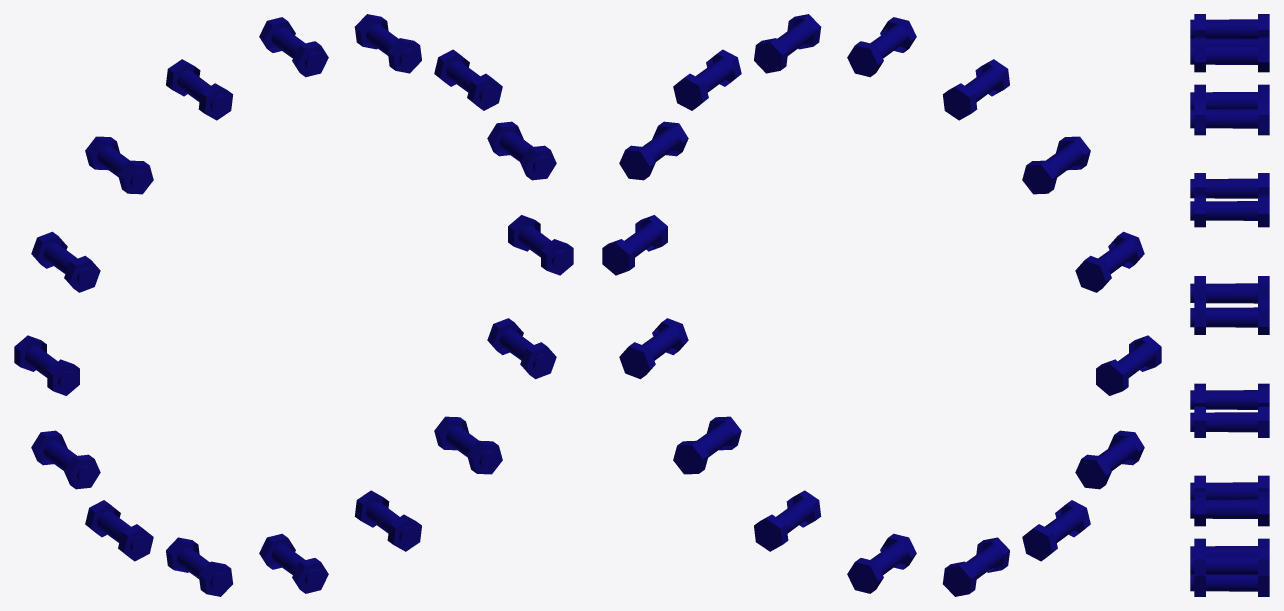
Rendered from Bolt_x17_03_LOD0.FBX.
The picture shows the model from 3 angles, left to right: view 1: azimuth 30°, elevation 25°; view 2: azimuth 150°, elevation 25°; view 3: azimuth 270°, elevation 25°; orthographic projection. The views are drawn at different scales.
Parts seen in each view (by area): view 1: Bolt_03_LOD0; view 2: Bolt_03_LOD0; view 3: Bolt_03_LOD0.
Part boxes in pixels (x1,y1,x2,y2): Bolt_03_LOD0: (14,14,573,596); Bolt_03_LOD0: (602,14,1161,596); Bolt_03_LOD0: (1190,14,1269,596).
Bounding box in the file's own units: 36.9 × 36.9 × 5.01.
